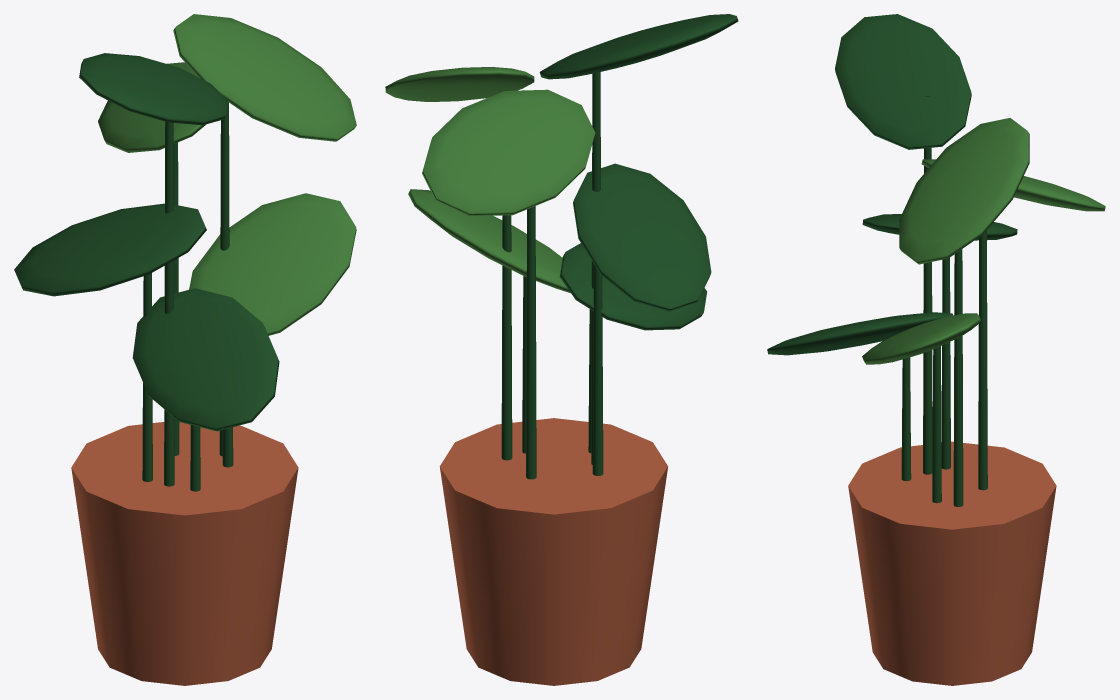
Rendered from plant_monstera.glb.
3 views of the same model, side by side, from view 1: azimuth 30°, elevation 25°; view 2: azimuth 150°, elevation 25°; view 3: azimuth 270°, elevation 25° (orthographic). The views are drawn at different scales.
Parts seen in each view (by area): view 1: Part0, Part8, Part2, Part10, Part4, Part12, Part6, Part13, Part11, Part5, Part7, Part9; view 2: Part0, Part6, Part4, Part12, Part2, Part8, Part10, Part7, Part11, Part5, Part13, Part3; view 3: Part0, Part12, Part10, Part8, Part2, Part7, Part11, Part13, Part6, Part5, Part3, Part9 (+1 smaller).
Boxes of the visible parts, x1=… form: Part0: x1=71, y1=422, x2=298, y2=685; Part8: x1=132, y1=288, x2=279, y2=431; Part2: x1=189, y1=193, x2=356, y2=335; Part10: x1=173, y1=14, x2=356, y2=141; Part4: x1=14, y1=203, x2=206, y2=296; Part12: x1=79, y1=53, x2=228, y2=125; Part6: x1=98, y1=62, x2=205, y2=152; Part13: x1=164, y1=71, x2=174, y2=486; Part11: x1=219, y1=102, x2=229, y2=456; Part5: x1=142, y1=273, x2=152, y2=481; Part7: x1=173, y1=142, x2=179, y2=455; Part9: x1=190, y1=425, x2=200, y2=491; Part0: x1=439, y1=418, x2=667, y2=685; Part6: x1=422, y1=89, x2=595, y2=216; Part4: x1=573, y1=163, x2=711, y2=311; Part12: x1=539, y1=14, x2=738, y2=79; Part2: x1=408, y1=189, x2=570, y2=293; Part8: x1=559, y1=243, x2=706, y2=330; Part10: x1=385, y1=67, x2=534, y2=101; Part7: x1=526, y1=206, x2=536, y2=479; Part11: x1=501, y1=215, x2=512, y2=460; Part5: x1=592, y1=264, x2=603, y2=475; Part13: x1=591, y1=47, x2=600, y2=464; Part3: x1=522, y1=276, x2=526, y2=453; Part0: x1=848, y1=441, x2=1056, y2=685; Part12: x1=835, y1=14, x2=971, y2=149; Part10: x1=899, y1=118, x2=1029, y2=264; Part8: x1=767, y1=312, x2=952, y2=355; Part2: x1=862, y1=313, x2=981, y2=364; Part7: x1=978, y1=230, x2=987, y2=490; Part11: x1=953, y1=249, x2=963, y2=506; Part13: x1=923, y1=95, x2=932, y2=474; Part6: x1=921, y1=159, x2=1105, y2=211; Part5: x1=941, y1=258, x2=950, y2=469; Part3: x1=932, y1=346, x2=941, y2=503; Part9: x1=901, y1=357, x2=911, y2=481.
Bounding box in the file's own units: 0.5462 × 1.04 × 0.5525.
